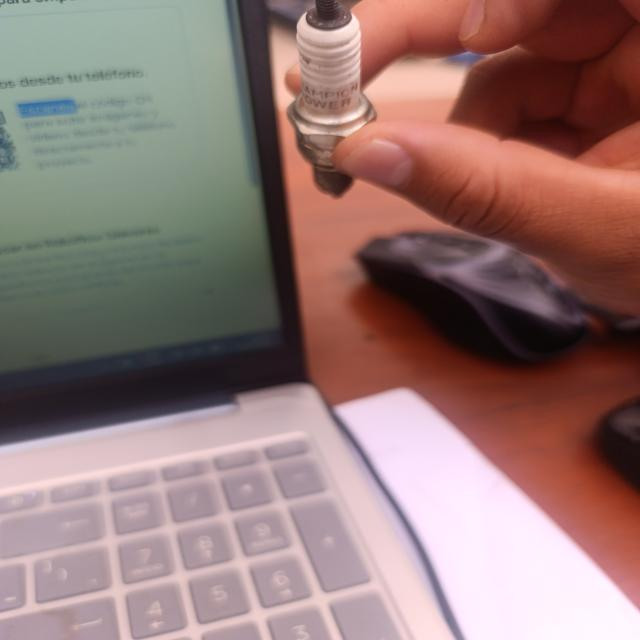bujia: (287, 0, 376, 197)
